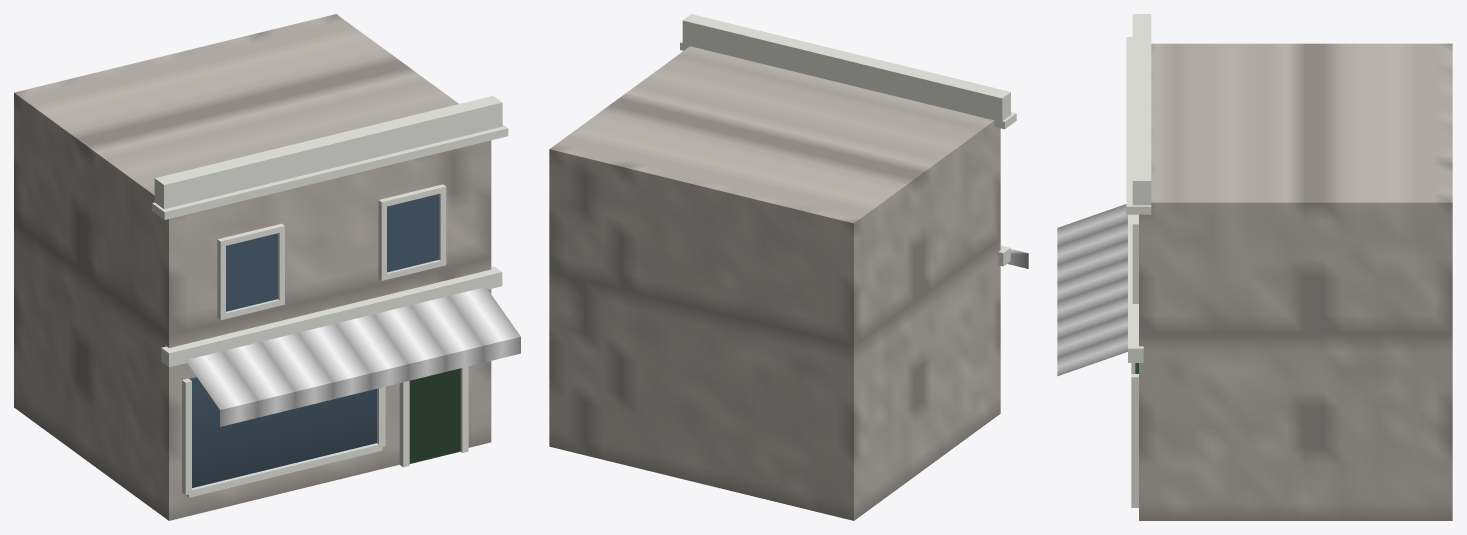
Rendered from Shop.glb.
3 views of the same model, side by side, from view 1: azimuth 30°, elevation 25°; view 2: azimuth 150°, elevation 25°; view 3: azimuth 270°, elevation 25° (orthographic). The views are drawn at different scales.
Parts seen in each view (by area): view 1: Facade, ShopTrim, Awning, ShopWindows, ShopDoor; view 2: Facade, ShopTrim; view 3: Facade, Awning, ShopTrim.
Boxes of the visible parts, x1,y1,x2,y2 form: Facade: (14,14,491,520); ShopTrim: (152,96,508,497); Awning: (185,287,520,426); ShopWindows: (189,194,439,487); ShopDoor: (409,368,460,463); Facade: (549,46,1000,520); ShopTrim: (680,14,1016,266); Facade: (1139,43,1452,520); Awning: (1057,204,1127,376); ShopTrim: (1126,14,1151,507).
Bounding box in the file's own units: 6.4 × 6.05 × 6.3.
